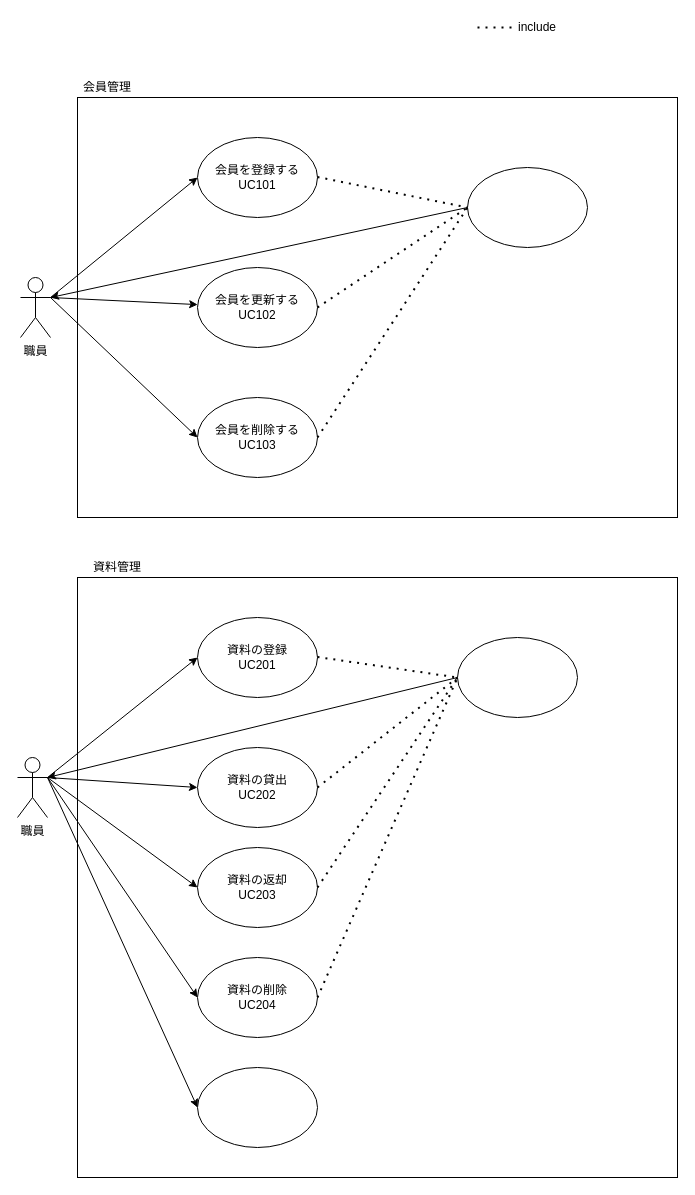
Some shapes in this 695 by 1195 pixel diagram are drawn without their labels. Each missing label, with the centre of its shape:
"会員を検索する UC104" goes at [527,207].
"資料の変更 UC205" goes at [257,1107].
"資料の検索 UC206" goes at [517,677].
